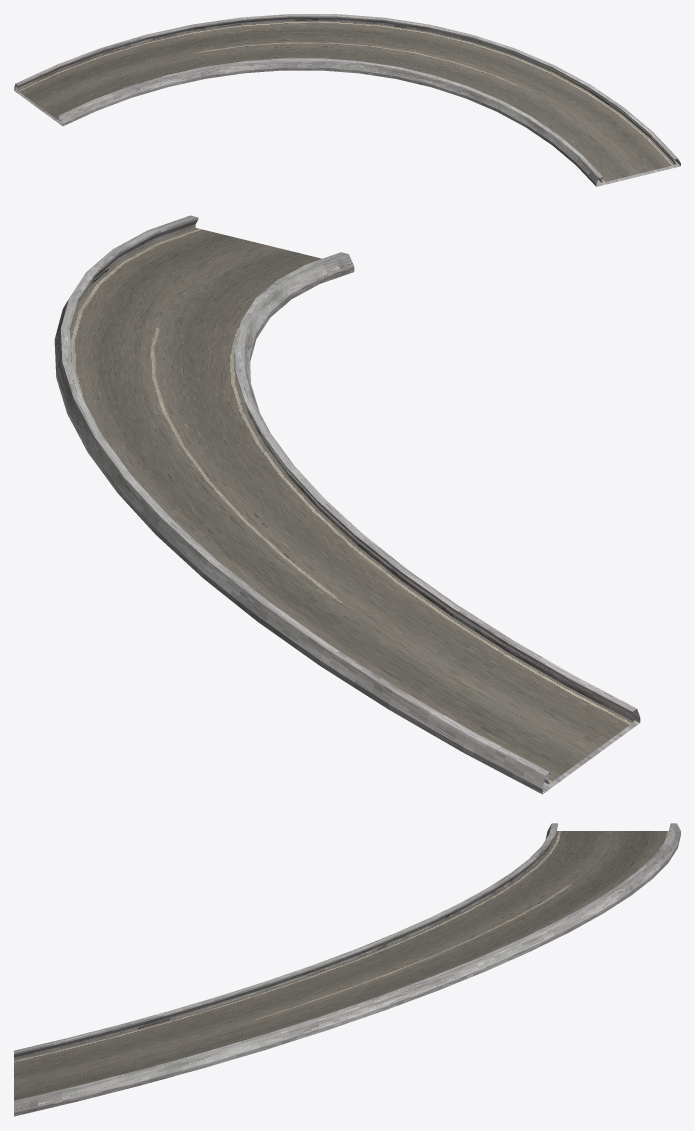
Rendered from road-Turn-BiSlopeUp-BiSlopeDown-Even-Left-Size5.glb.
The picture shows the model from 3 angles, top to bottom: view 1: azimuth 30°, elevation 25°; view 2: azimuth 150°, elevation 25°; view 3: azimuth 270°, elevation 25°; orthographic projection. The views are drawn at different scales.
Visible parts, largest first — view 1: road-Turn-BiSlopeUp-BiSlopeDown-Even-Left-Size5; view 2: road-Turn-BiSlopeUp-BiSlopeDown-Even-Left-Size5; view 3: road-Turn-BiSlopeUp-BiSlopeDown-Even-Left-Size5.
Boxes of the visible parts, x1,y1,x2,y2 form: road-Turn-BiSlopeUp-BiSlopeDown-Even-Left-Size5: (14,14,680,186); road-Turn-BiSlopeUp-BiSlopeDown-Even-Left-Size5: (54,215,640,794); road-Turn-BiSlopeUp-BiSlopeDown-Even-Left-Size5: (14,823,680,1116).
Size of the model in its own units: 5 by 0.6081 by 5.
Materials: 2 (2 with a texture image).
